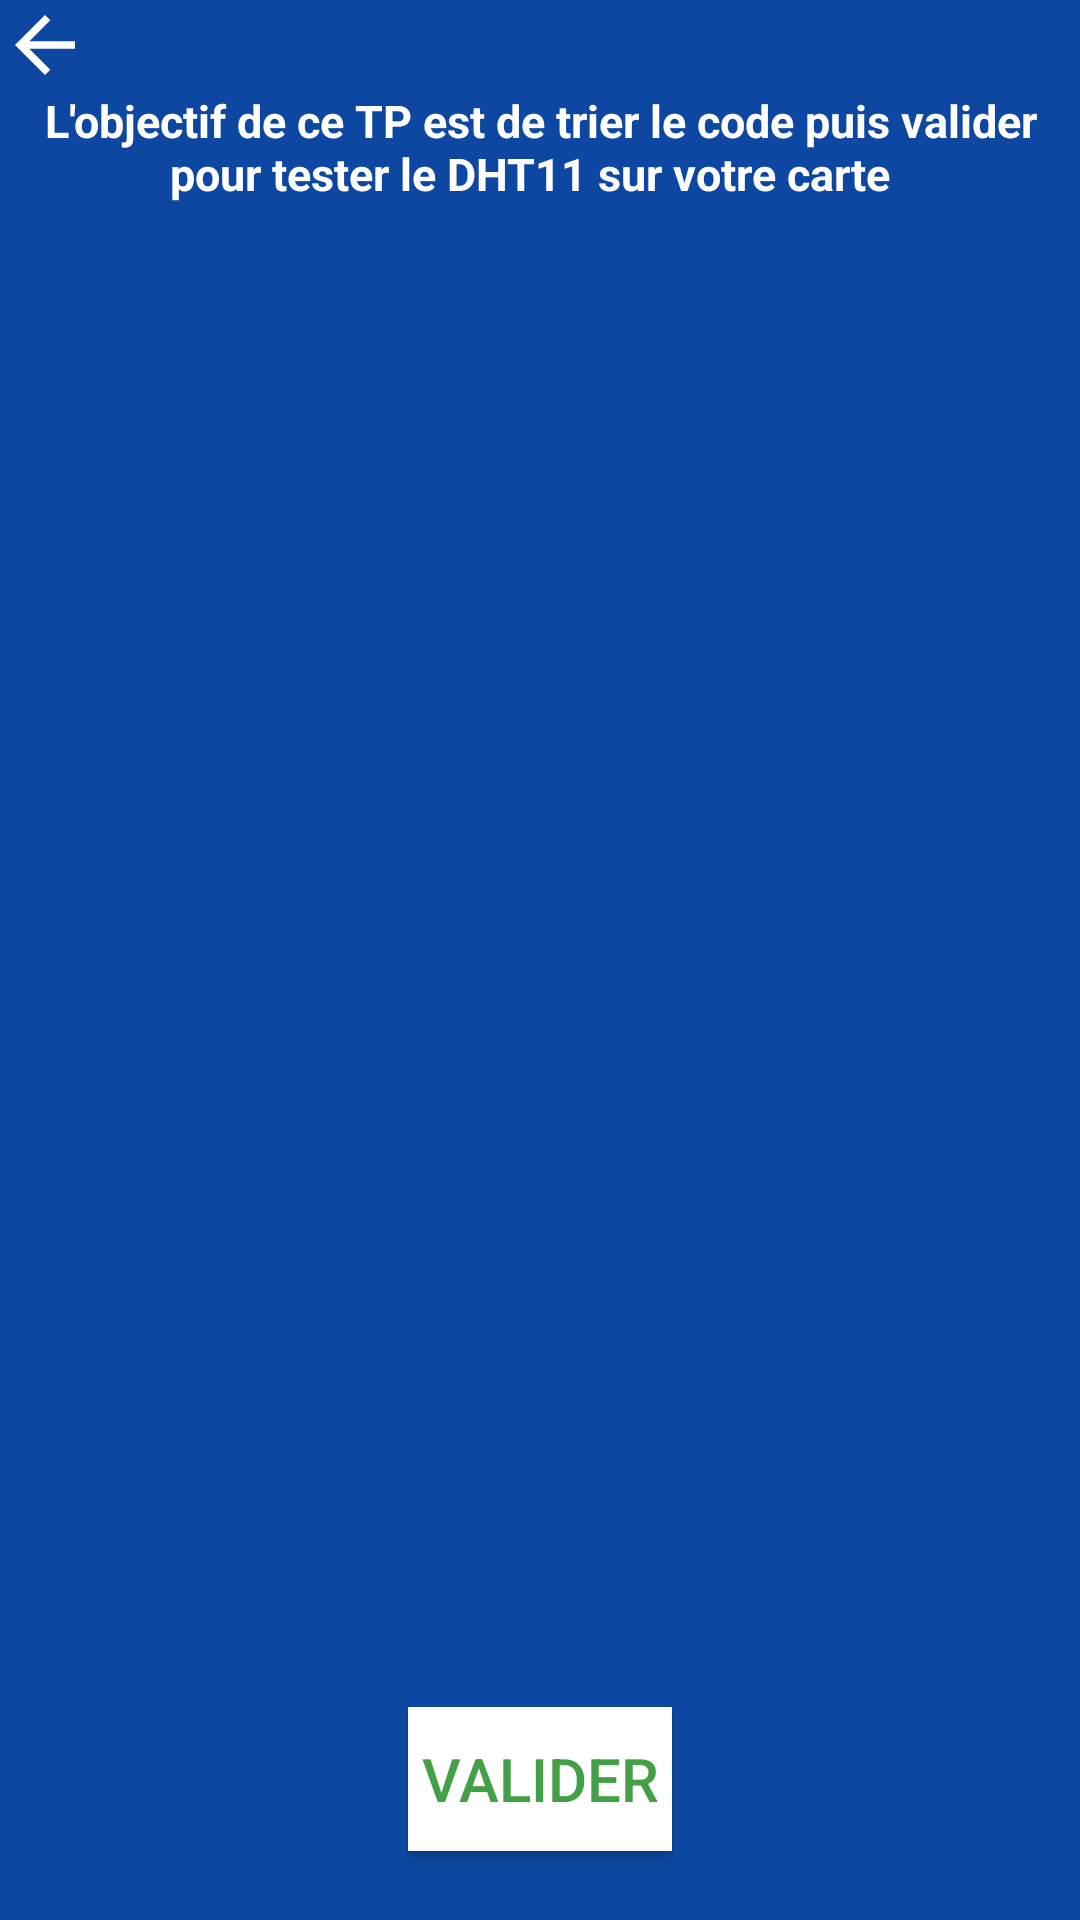

Screen size 1080 x 1920. Icon name, then its center in pixels as point (x, y):
ret: point (45, 45)
